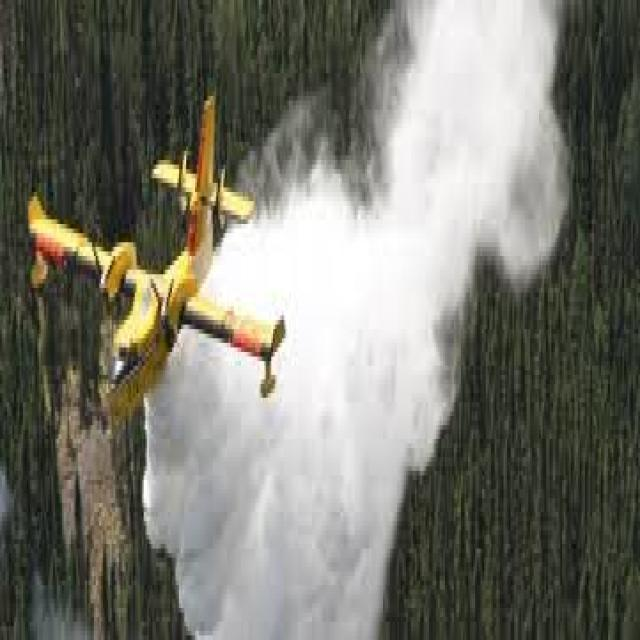Fire: (32, 192, 96, 265)
Smoke: (296, 0, 601, 513), (151, 413, 427, 640)
